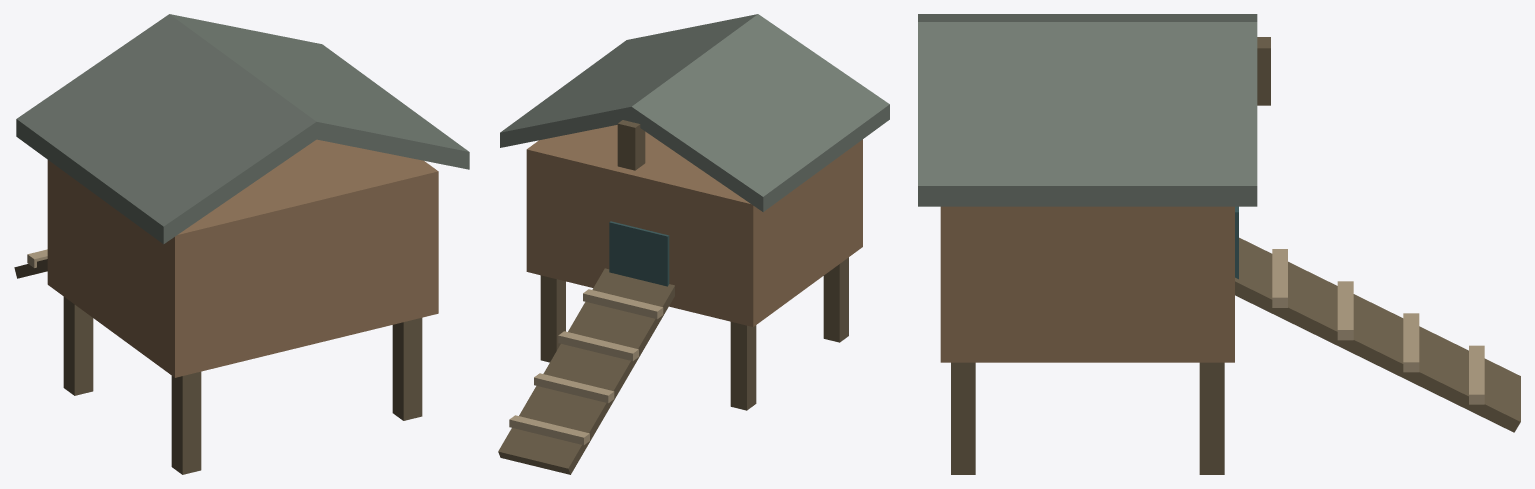
File: ua_chicken_coop.obj
The picture shows the model from 3 angles, left to right: view 1: azimuth 30°, elevation 25°; view 2: azimuth 150°, elevation 25°; view 3: azimuth 270°, elevation 25°; orthographic projection. The views are drawn at different scales.
Visible parts, largest first — view 1: ua_chicken_coop; view 2: ua_chicken_coop; view 3: ua_chicken_coop.
Part boxes in pixels (box(x1,y1,x2,y2)): ua_chicken_coop: box(14, 14, 469, 474); ua_chicken_coop: box(498, 14, 889, 474); ua_chicken_coop: box(918, 14, 1520, 474).
Bounding box in the file's own units: 1.8 × 1.89 × 2.66.
